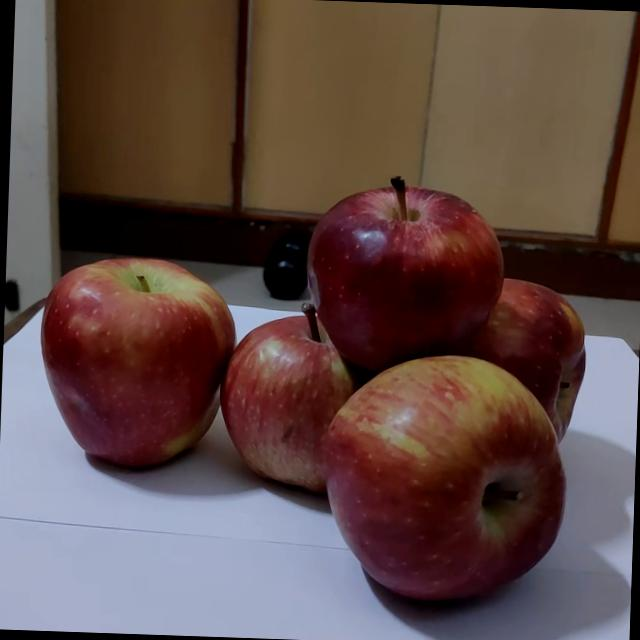apple: (272, 354, 550, 632), (20, 248, 253, 490), (385, 279, 601, 497), (280, 177, 490, 401), (200, 302, 378, 520)
